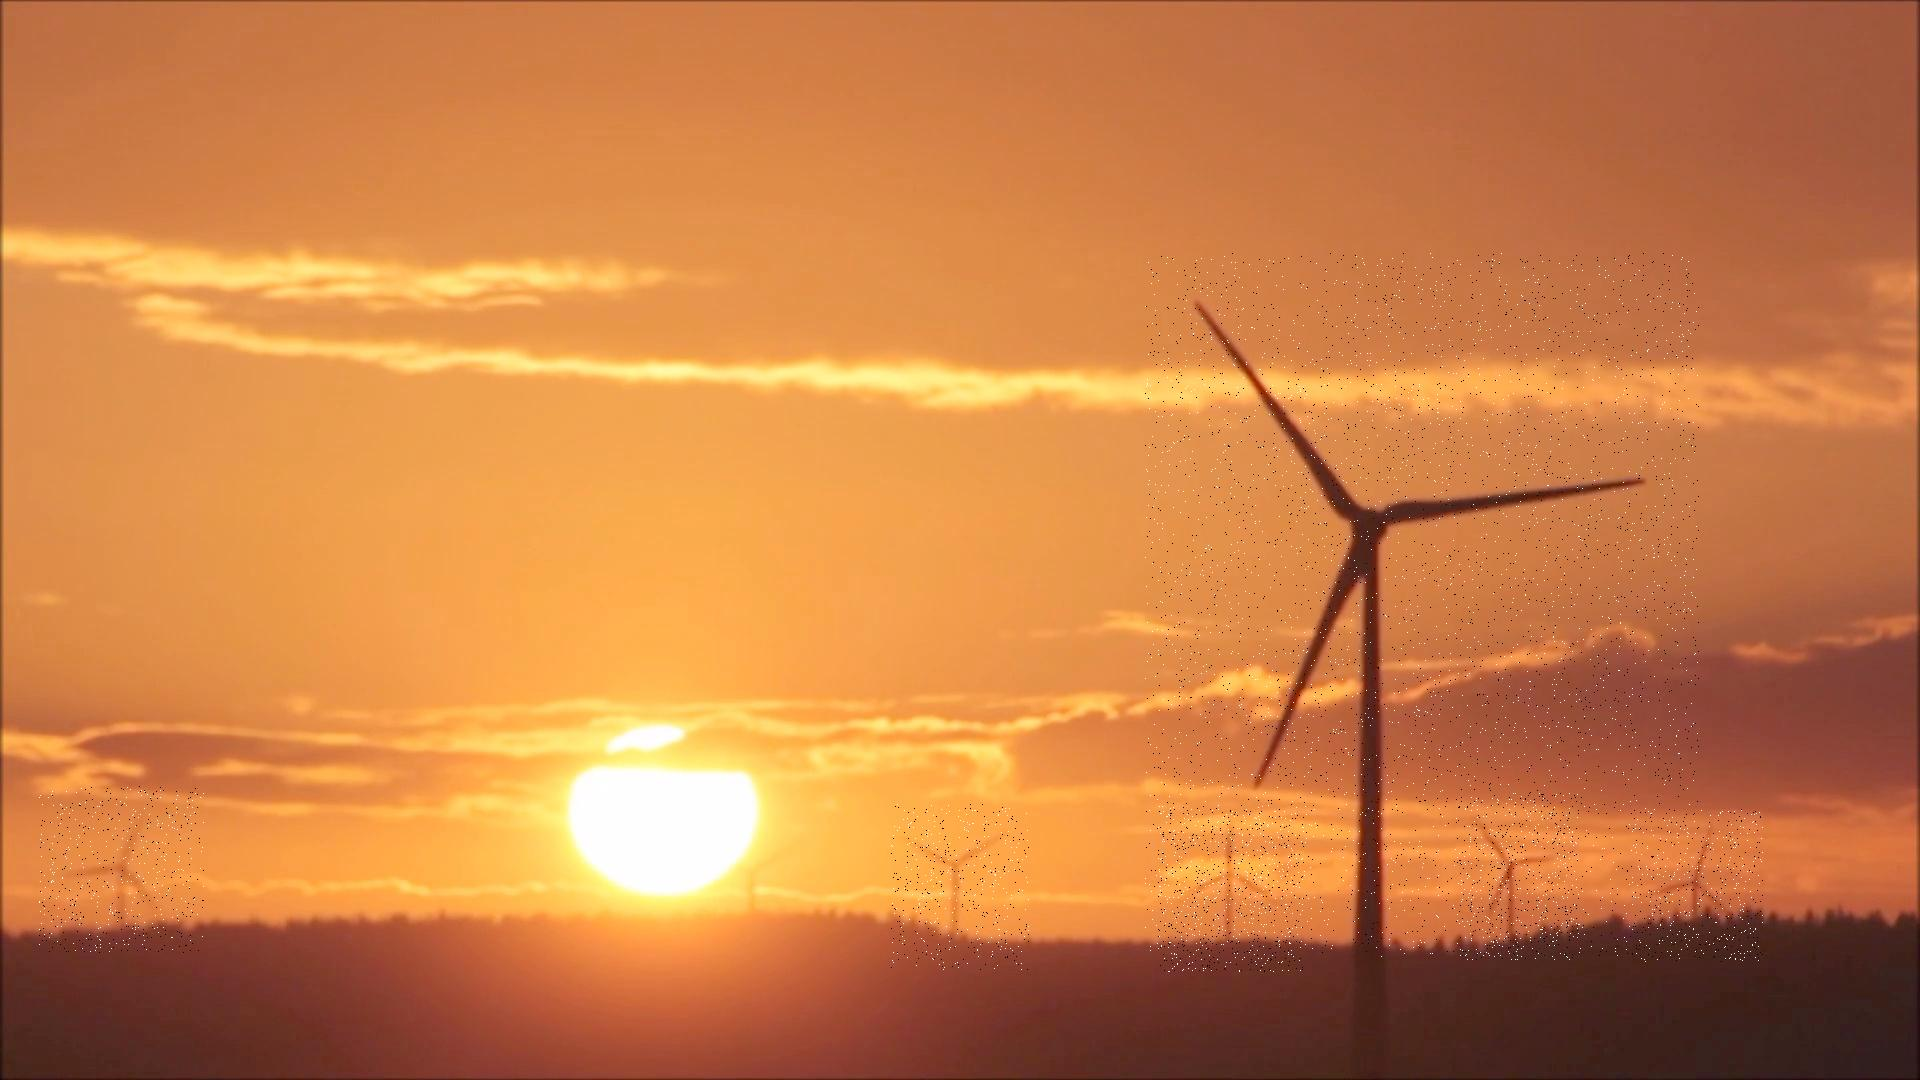turbine: (1146, 253, 1700, 957), (40, 787, 204, 953), (1159, 806, 1304, 973), (891, 804, 1029, 971), (1456, 794, 1580, 961), (1631, 810, 1763, 963), (713, 819, 815, 945)
